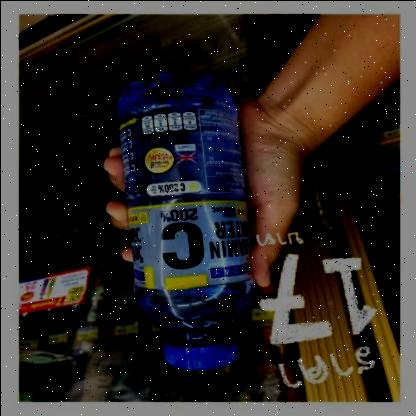Plastic Bottle: (115, 71, 255, 369)
